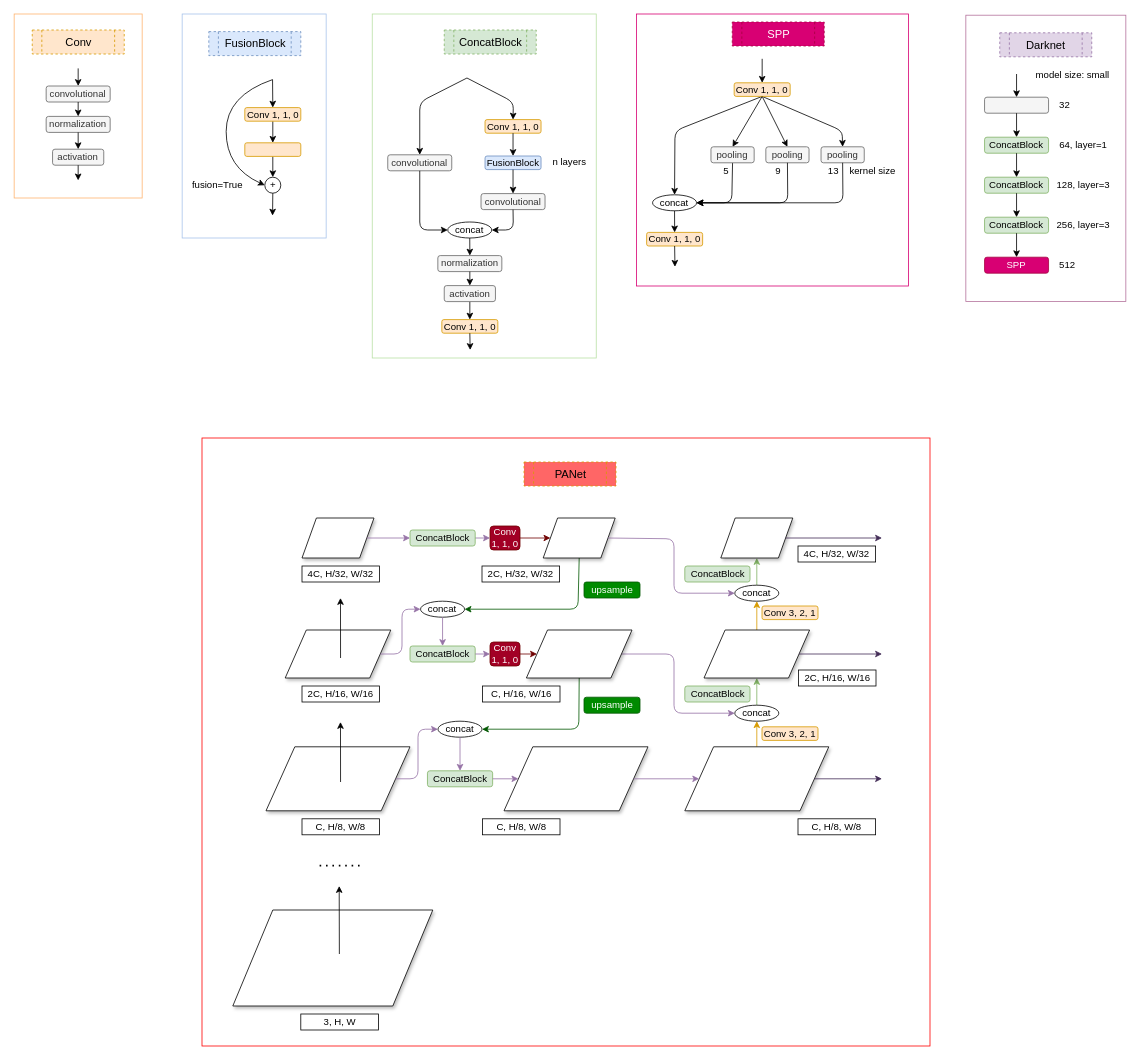
Image size: 1140x1060. Some labels were removed from this diagram. Here are the shapes that lost their labels. From the top down, the centre of each, then its label:
At point 1016,104: "Focus".
At point 272,149: "Conv 3, 1, 1".
At point 333,959: "Images".
